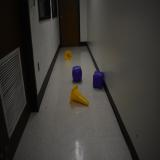cone: (69, 83, 89, 106), (65, 50, 72, 60)
cube: (93, 71, 104, 89), (72, 66, 82, 81)
